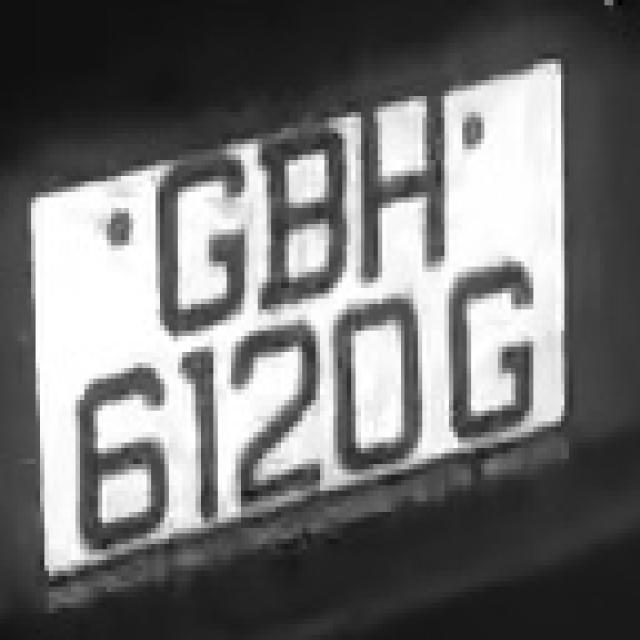0: (306, 277, 436, 480)
1: (160, 325, 236, 544)
2: (222, 314, 329, 506)
6: (63, 347, 174, 565)
B: (249, 117, 355, 299)
G: (133, 144, 258, 336), (431, 251, 533, 448)
H: (351, 85, 467, 278)
